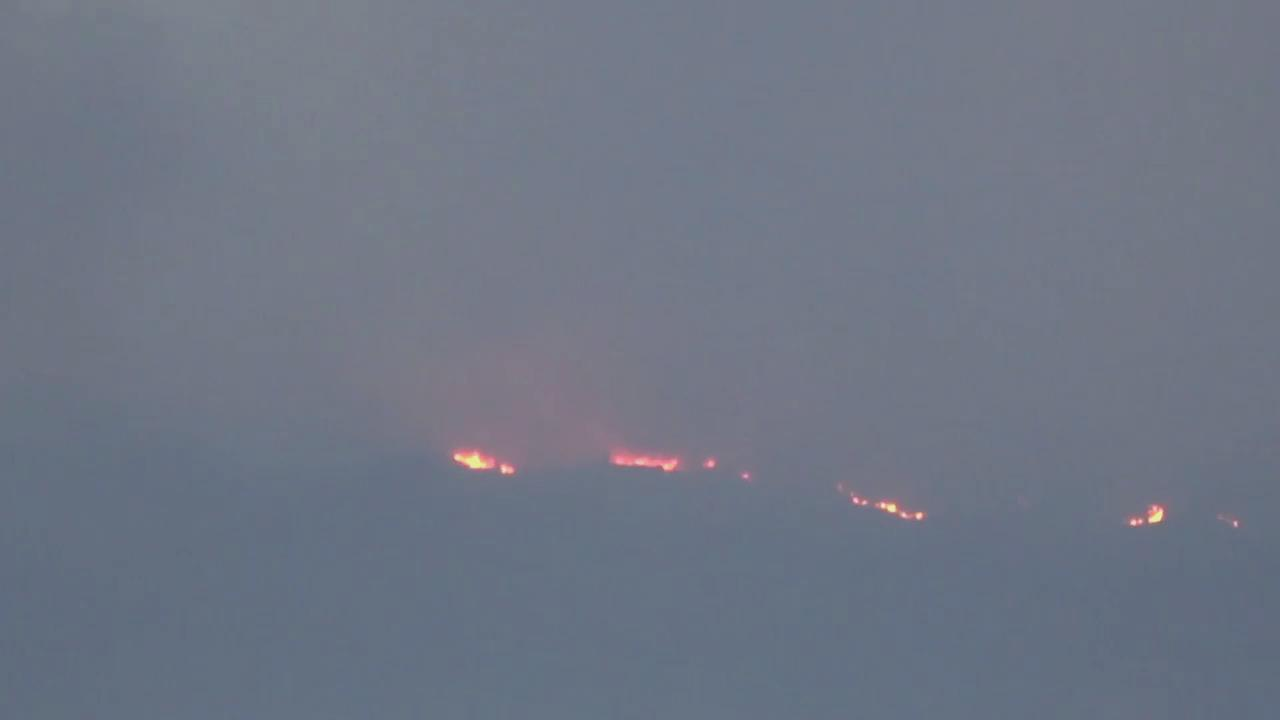fire: (827, 482, 925, 524), (449, 448, 517, 478), (608, 450, 681, 471), (1124, 504, 1165, 526)
